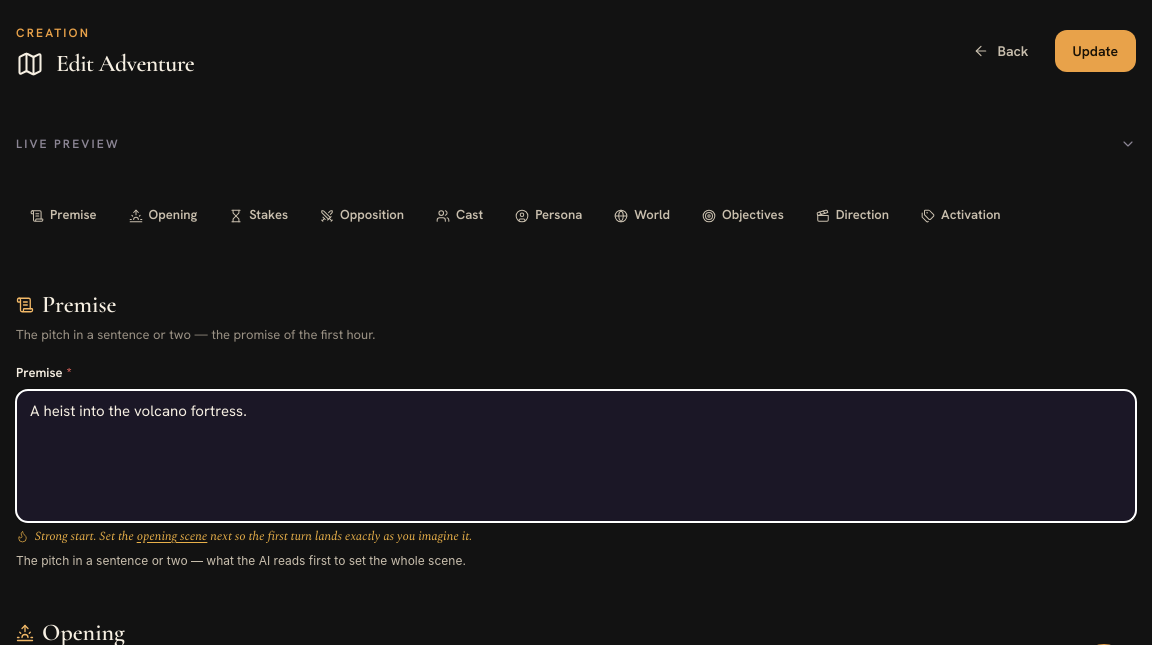
Scenario: AdventureCreator voice write refusals (I-36) › shows the voice copy for a 422 voice_invalid and stays in the editor
Step 1. Click the button "Update" → (1095, 51), box [1054,30,1136,72]
(page scrolled)
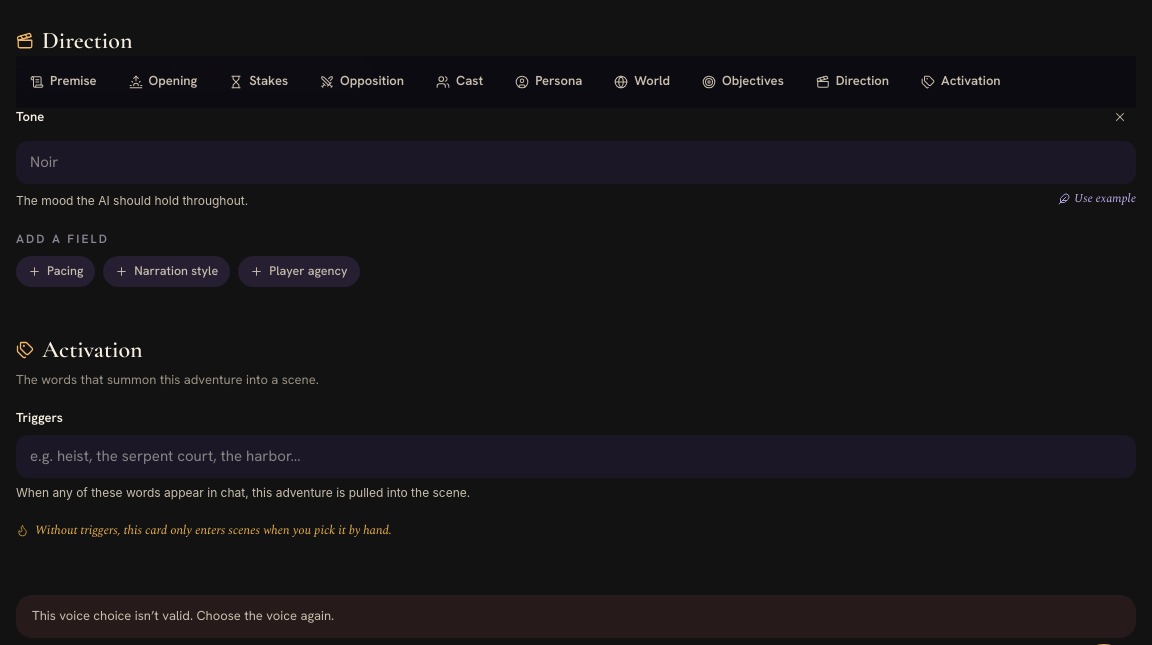
Now the text "This voice choice isn’t valid. Choose the voice again." is shown, box [32,607,334,626]
